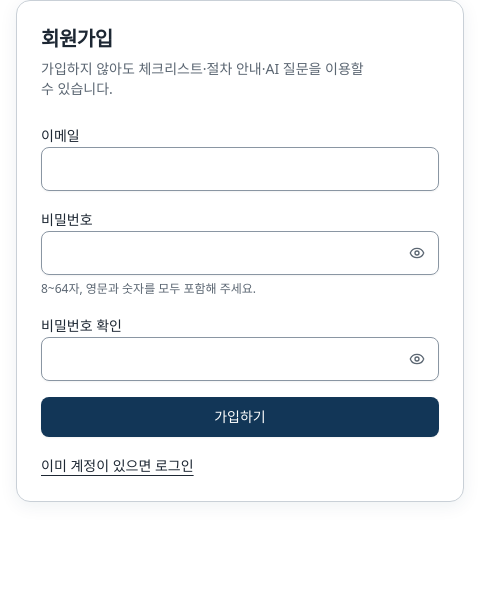
Scenario: /signup 서버 422 (5-1-1) › 형식·규칙 안내를 보이고 가입 완료로 넘어가지 않는다
This screenshot has width=481, height=608.
Step 1. Type "new@example.com" into the field labelled "이메일" → x=240, y=169, box [41,147,439,191]
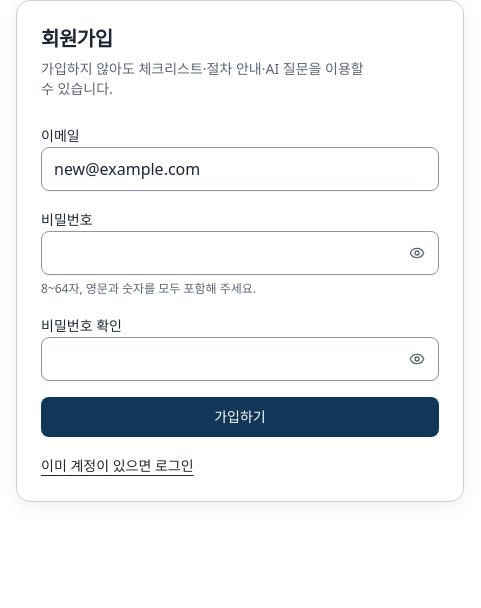
Step 2. Type "newpass123" into the password field labelled "비밀번호" → x=240, y=253, box [41,231,439,275]
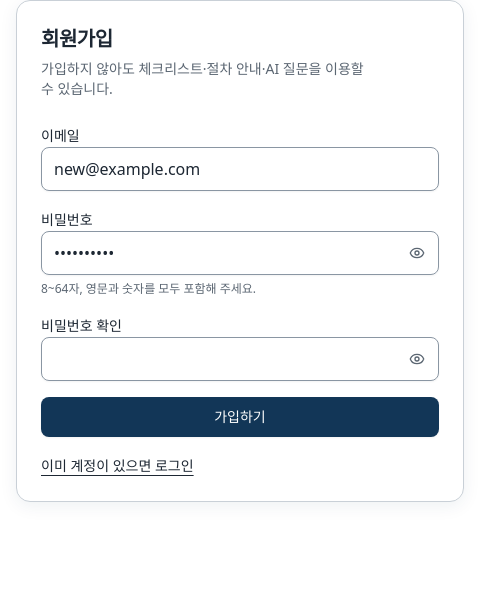
Step 3. Type "newpass123" into the password field labelled "비밀번호 확인" → x=240, y=359, box [41,337,439,381]
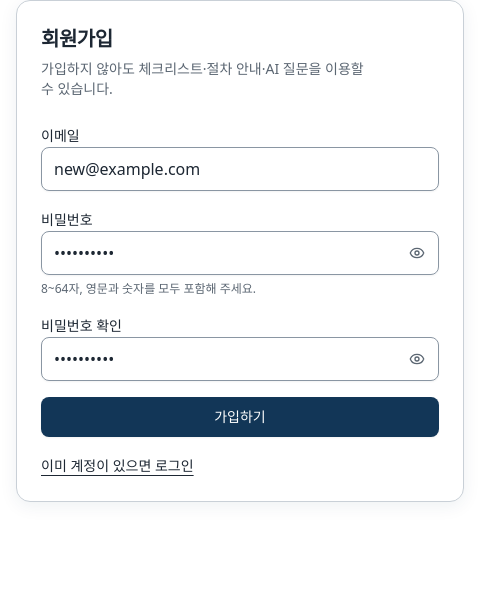
Step 4. Click the button "가입하기" → x=240, y=417, box [41,397,439,437]
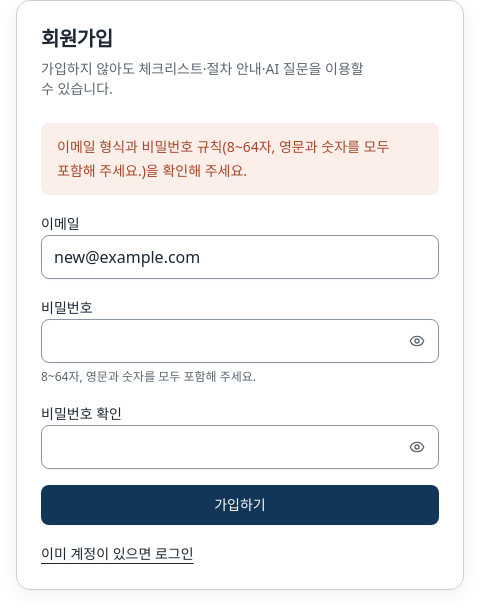
Check: the text "이메일 형식과 비밀번호 규칙(8~64자, 영문과 숫자를 모두 포함해 주세요.)을 확인해 주세요." is shown, box [41,123,439,195]
